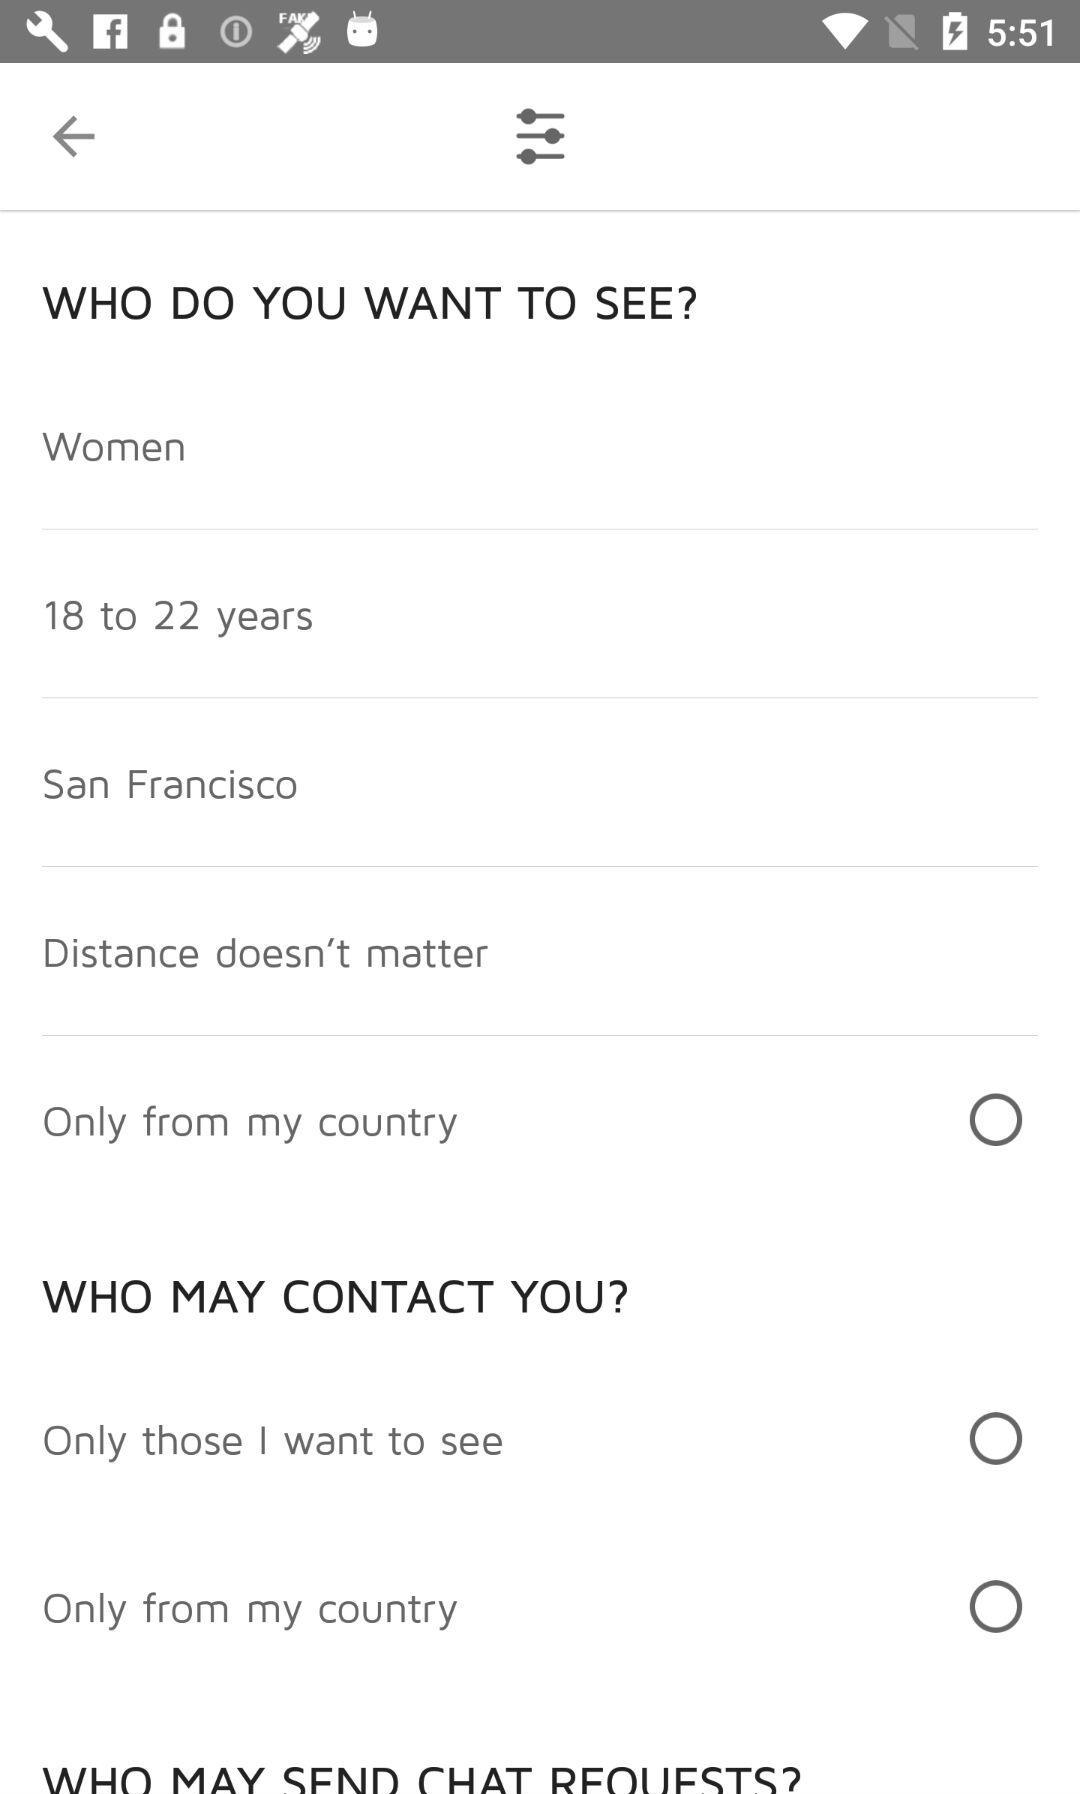CheckedTextView: (44, 1092, 1024, 1148), (44, 1411, 1024, 1466), (44, 1579, 1024, 1634)
Icon: (515, 108, 566, 167), (53, 115, 97, 160)
Text: (42, 286, 698, 322), (42, 1766, 802, 1794), (42, 1279, 629, 1313), (44, 1424, 503, 1463), (44, 1590, 459, 1633), (44, 1105, 459, 1146), (44, 937, 489, 971), (45, 598, 314, 639), (44, 768, 299, 802), (44, 432, 186, 464)
